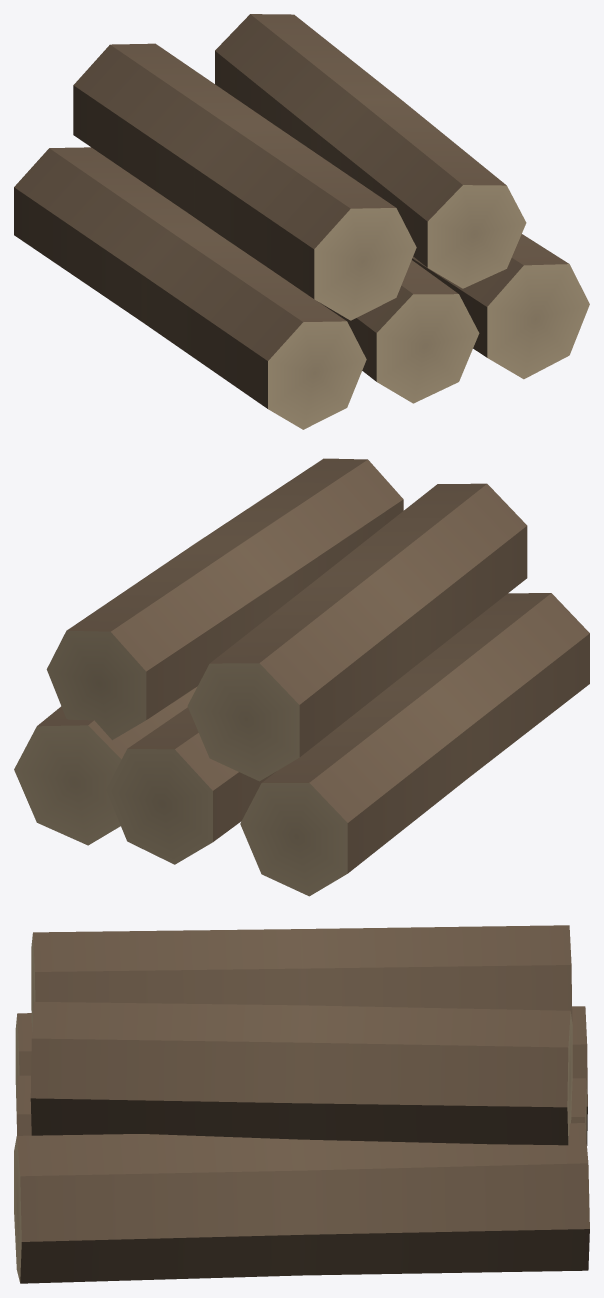
The model's file is drop_wood_a.glb.
The picture shows the model from 3 angles, top to bottom: view 1: azimuth 30°, elevation 25°; view 2: azimuth 150°, elevation 25°; view 3: azimuth 270°, elevation 25°; orthographic projection. The views are drawn at different scales.
Parts seen in each view (by area): view 1: drop_wood_a; view 2: drop_wood_a; view 3: drop_wood_a.
Boxes of the visible parts, bbox=[...] form: drop_wood_a: bbox=[14, 14, 589, 429]; drop_wood_a: bbox=[14, 458, 589, 896]; drop_wood_a: bbox=[14, 925, 589, 1283].
Size of the model in its own units: 0.2893 by 0.1694 by 0.3649.
